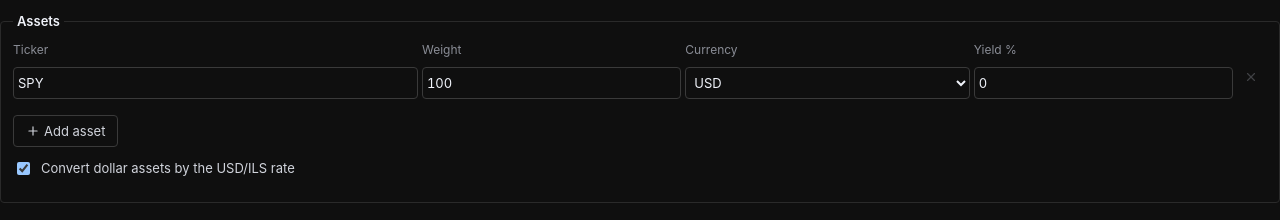
Test: PlannerAssets › prices a Tel Aviv ticker in shekels
Replace the text in the field named "Ticker 1" with "teva.ta" at {"x": 215, "y": 83}, box [13,67,418,99]
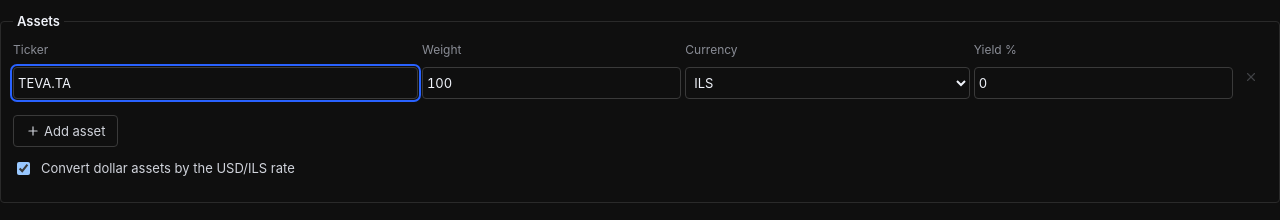
expect the dropdown named "Currency 1" shows "ILS": met, box [685,67,970,99]
